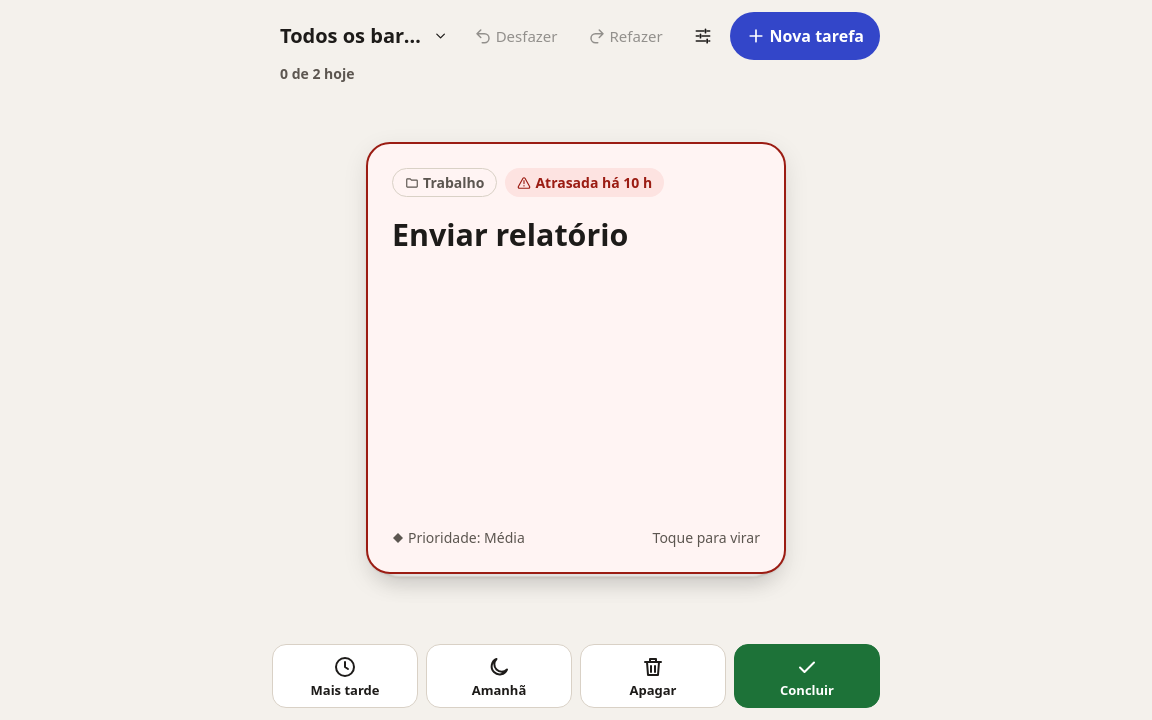
Test: deck management › creates a deck, announces it and offers undo
The width and height of the screenshot is (1152, 720).
Click the button with aria-label "Baralho:".
click(364, 36)  # box [272,12,457,60]
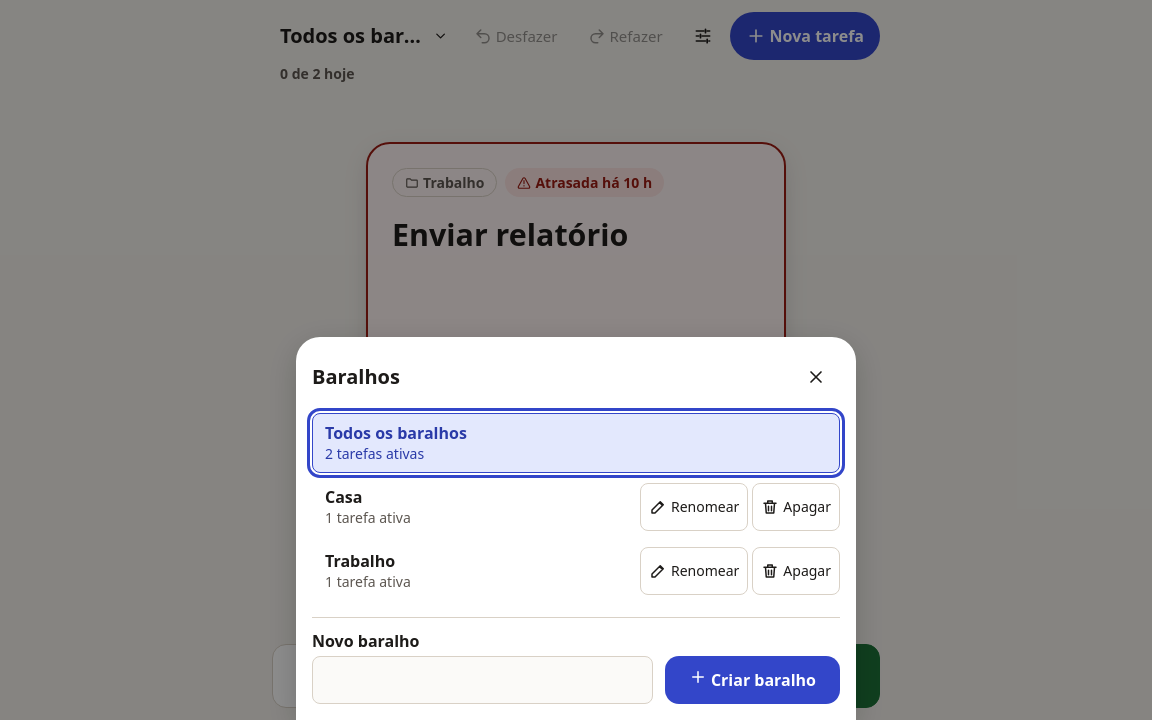
Type "Mercado" into the field labelled "Novo baralho".
click(482, 680); type("Mercado")  # box [312,656,653,704]
Then press Enter
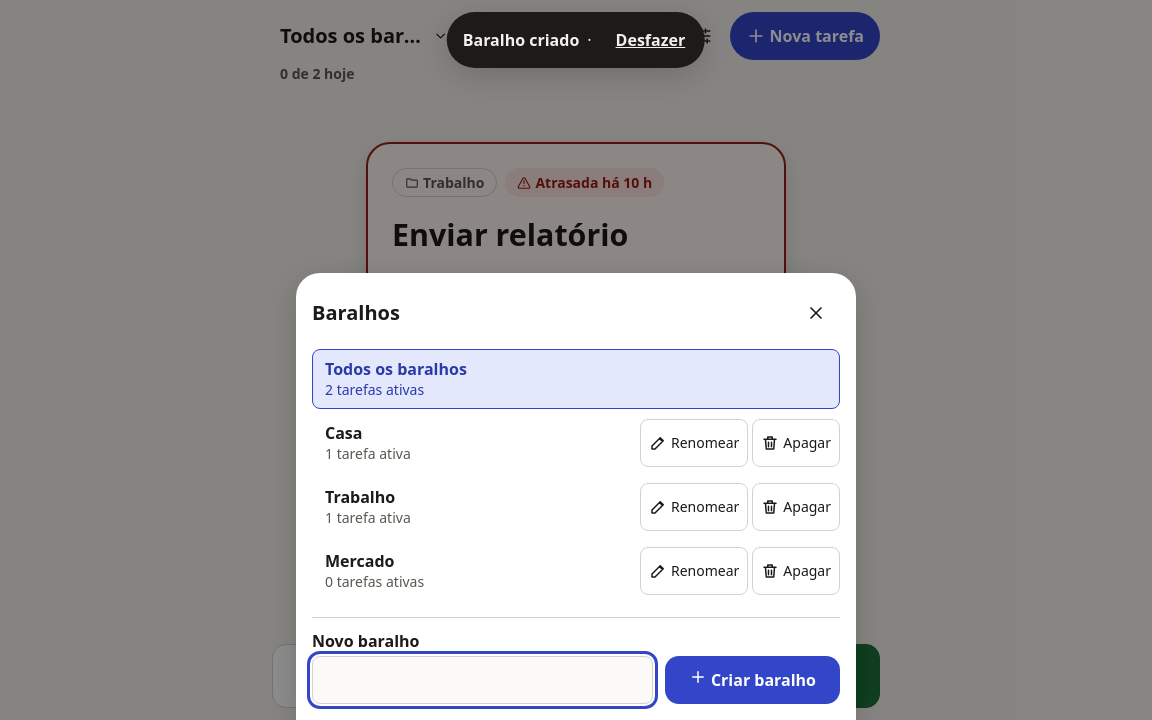
Expected: the button "Mercado 0 tarefas ativas" is shown, [312,541,636,601]
Expected: the element with test id "undo-toast" shows "Baralho criado", [463,29,579,51]
Click the button "Desfazer".
click(650, 40)  # box [600,16,701,64]
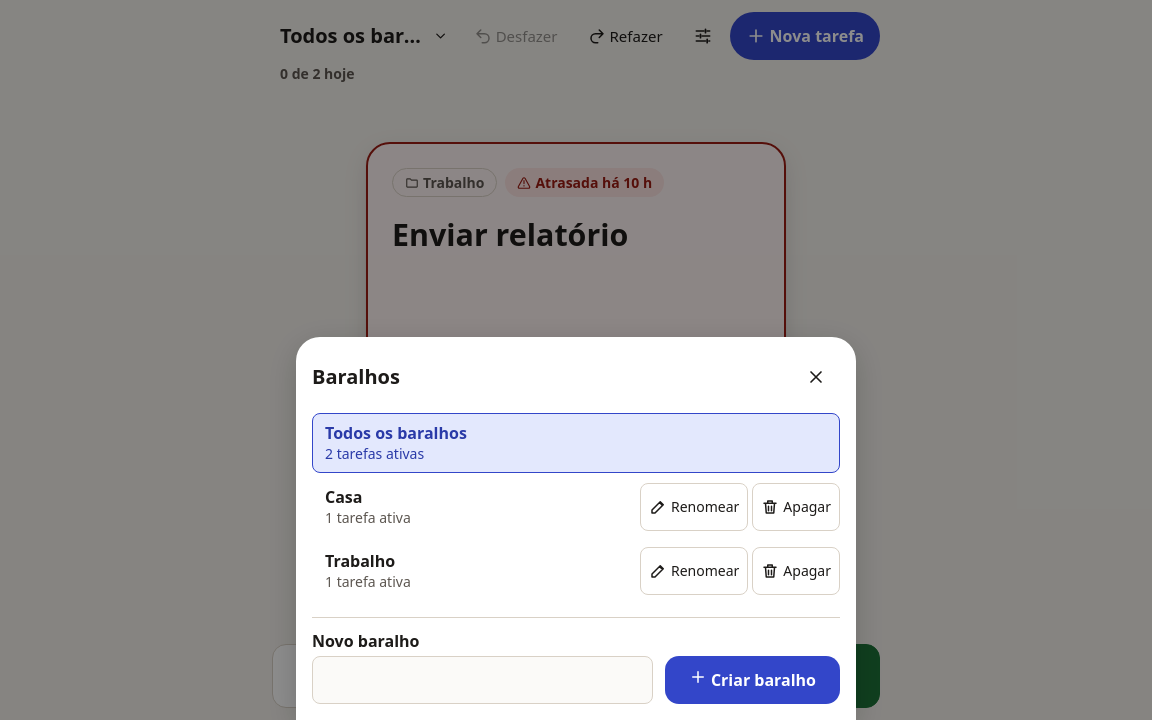
Expected: the button "Mercado" is gone
